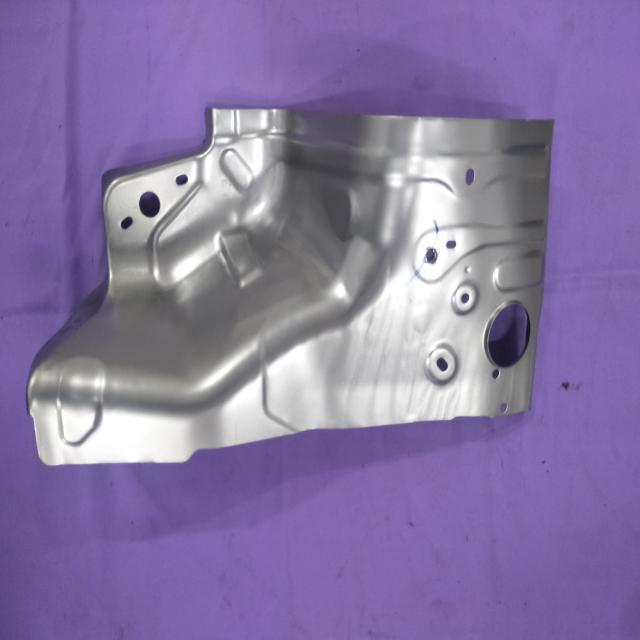Healthy: (27, 102, 556, 467)
